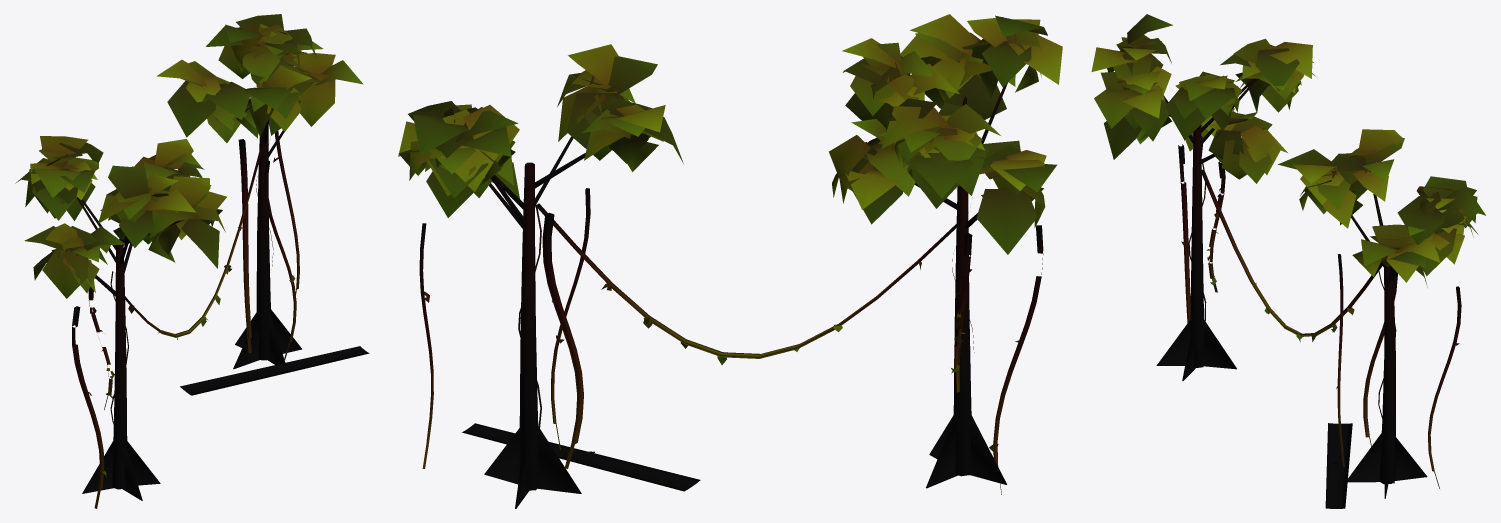
Rendered from patch_clearing_far.glb.
The picture shows the model from 3 angles, left to right: view 1: azimuth 30°, elevation 25°; view 2: azimuth 150°, elevation 25°; view 3: azimuth 270°, elevation 25°; orthographic projection. The views are drawn at different scales.
Parts seen in each view (by area): view 1: patch_clearing_far; view 2: patch_clearing_far; view 3: patch_clearing_far.
Part boxes in pixels (x1=…): patch_clearing_far: x1=15, y1=14, x2=369, y2=508; patch_clearing_far: x1=398, y1=14, x2=1062, y2=508; patch_clearing_far: x1=1091, y1=14, x2=1485, y2=508.
Size of the model in its own units: 11.76 by 9.75 by 10.04.
1 material, 1 textured.
